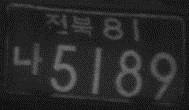1: (89, 45, 104, 96), (130, 17, 142, 43)
5: (49, 44, 78, 94)
8: (115, 47, 144, 98), (102, 15, 123, 41)
9: (149, 50, 178, 102)
나: (12, 42, 43, 77)
전북_O: (44, 12, 93, 37)
